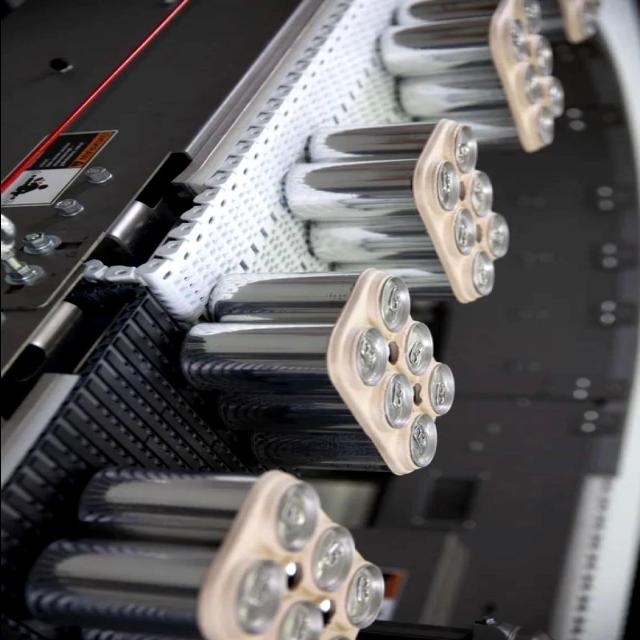bottle: (22, 464, 386, 638), (177, 266, 457, 476), (281, 118, 511, 304)
